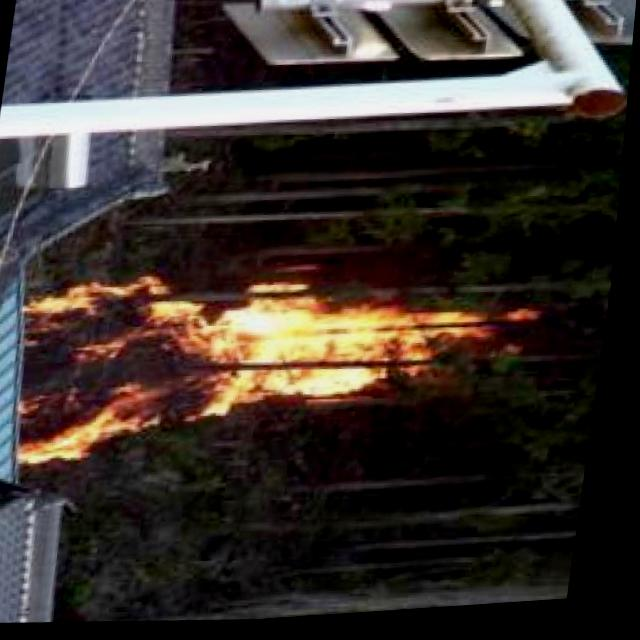helmet: (6, 249, 567, 512)
